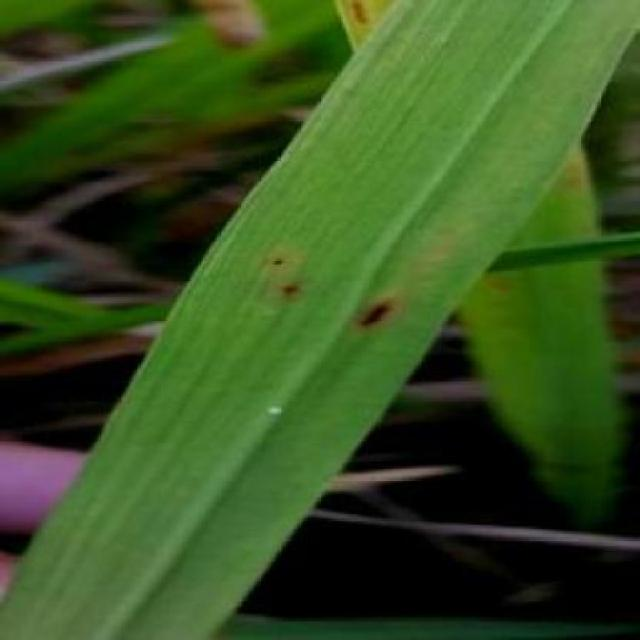Leaf_Blast: (344, 284, 408, 341), (324, 0, 385, 37), (269, 271, 311, 306), (258, 247, 293, 273)
